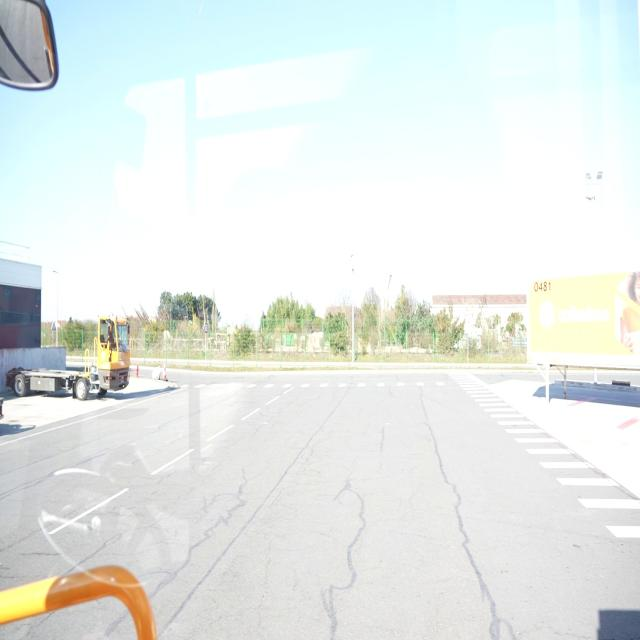Code: (533, 278, 557, 297)
